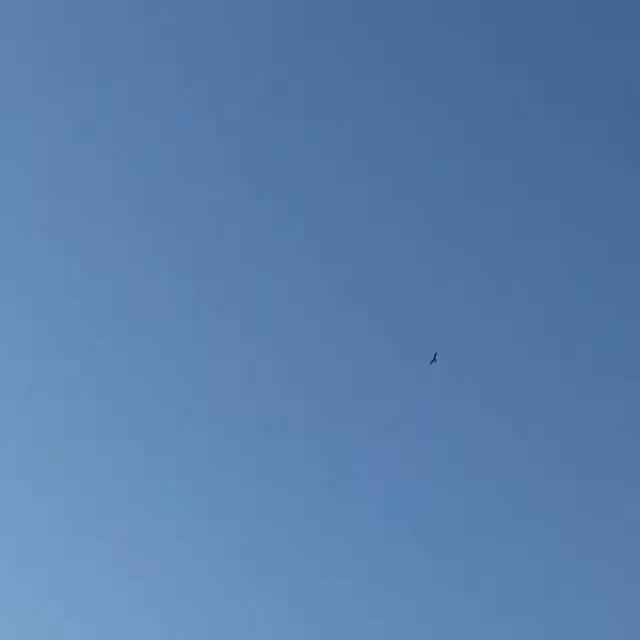bird: (425, 348, 442, 372)
